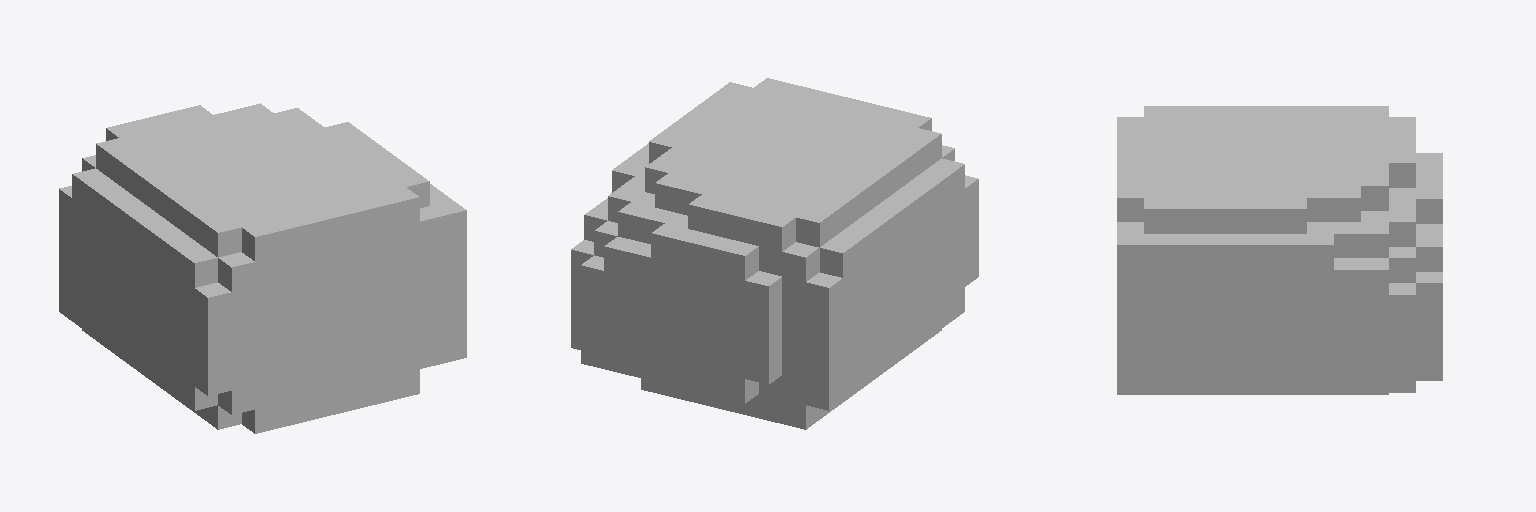
File: Rock3.obj
3 views of the same model, side by side, from view 1: azimuth 30°, elevation 25°; view 2: azimuth 150°, elevation 25°; view 3: azimuth 270°, elevation 25° (orthographic).
Visible parts, largest first — view 1: object 1; view 2: object 1; view 3: object 1.
Boxes of the visible parts, <box> form: object 1: <box>59,103,466,433</box>; object 1: <box>571,78,978,429</box>; object 1: <box>1117,106,1442,394</box>.
Bounding box in the file's own units: 1.1 × 0.8 × 1.2.